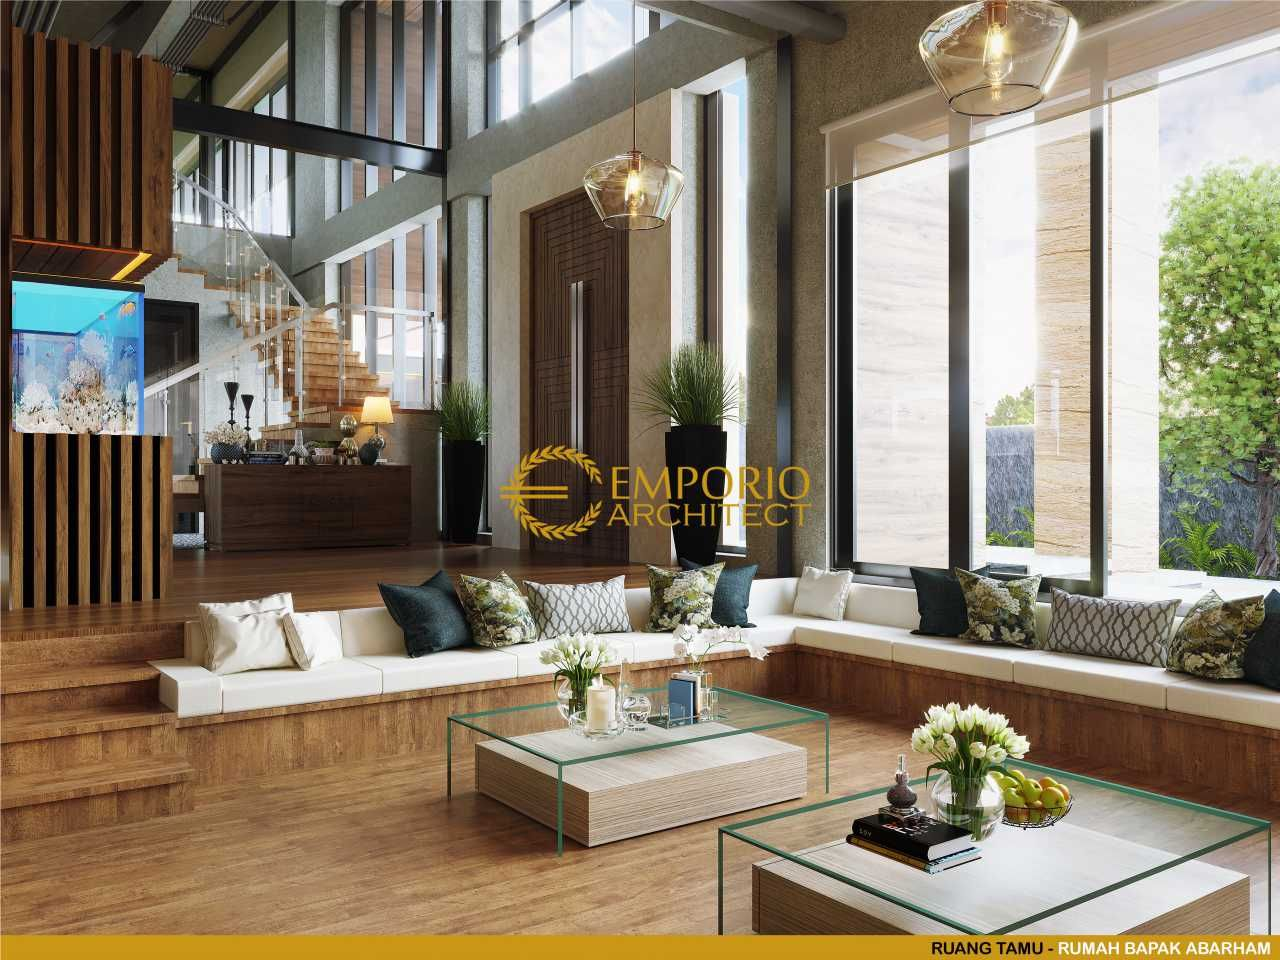bantal: (1042, 590, 1169, 671), (1172, 593, 1247, 683), (382, 573, 462, 653), (958, 568, 1035, 648), (206, 602, 294, 668), (463, 572, 531, 647), (646, 561, 716, 629), (527, 576, 594, 646), (906, 567, 970, 637), (287, 610, 342, 668), (790, 565, 849, 618), (718, 558, 759, 629), (594, 577, 632, 634)
buku: (851, 808, 983, 876)
lampu: (358, 393, 398, 441)
meja: (712, 751, 1279, 941), (435, 692, 843, 805)
sova: (163, 565, 789, 712)
tanaman: (909, 704, 1011, 844), (643, 344, 742, 429), (1162, 506, 1254, 572)
